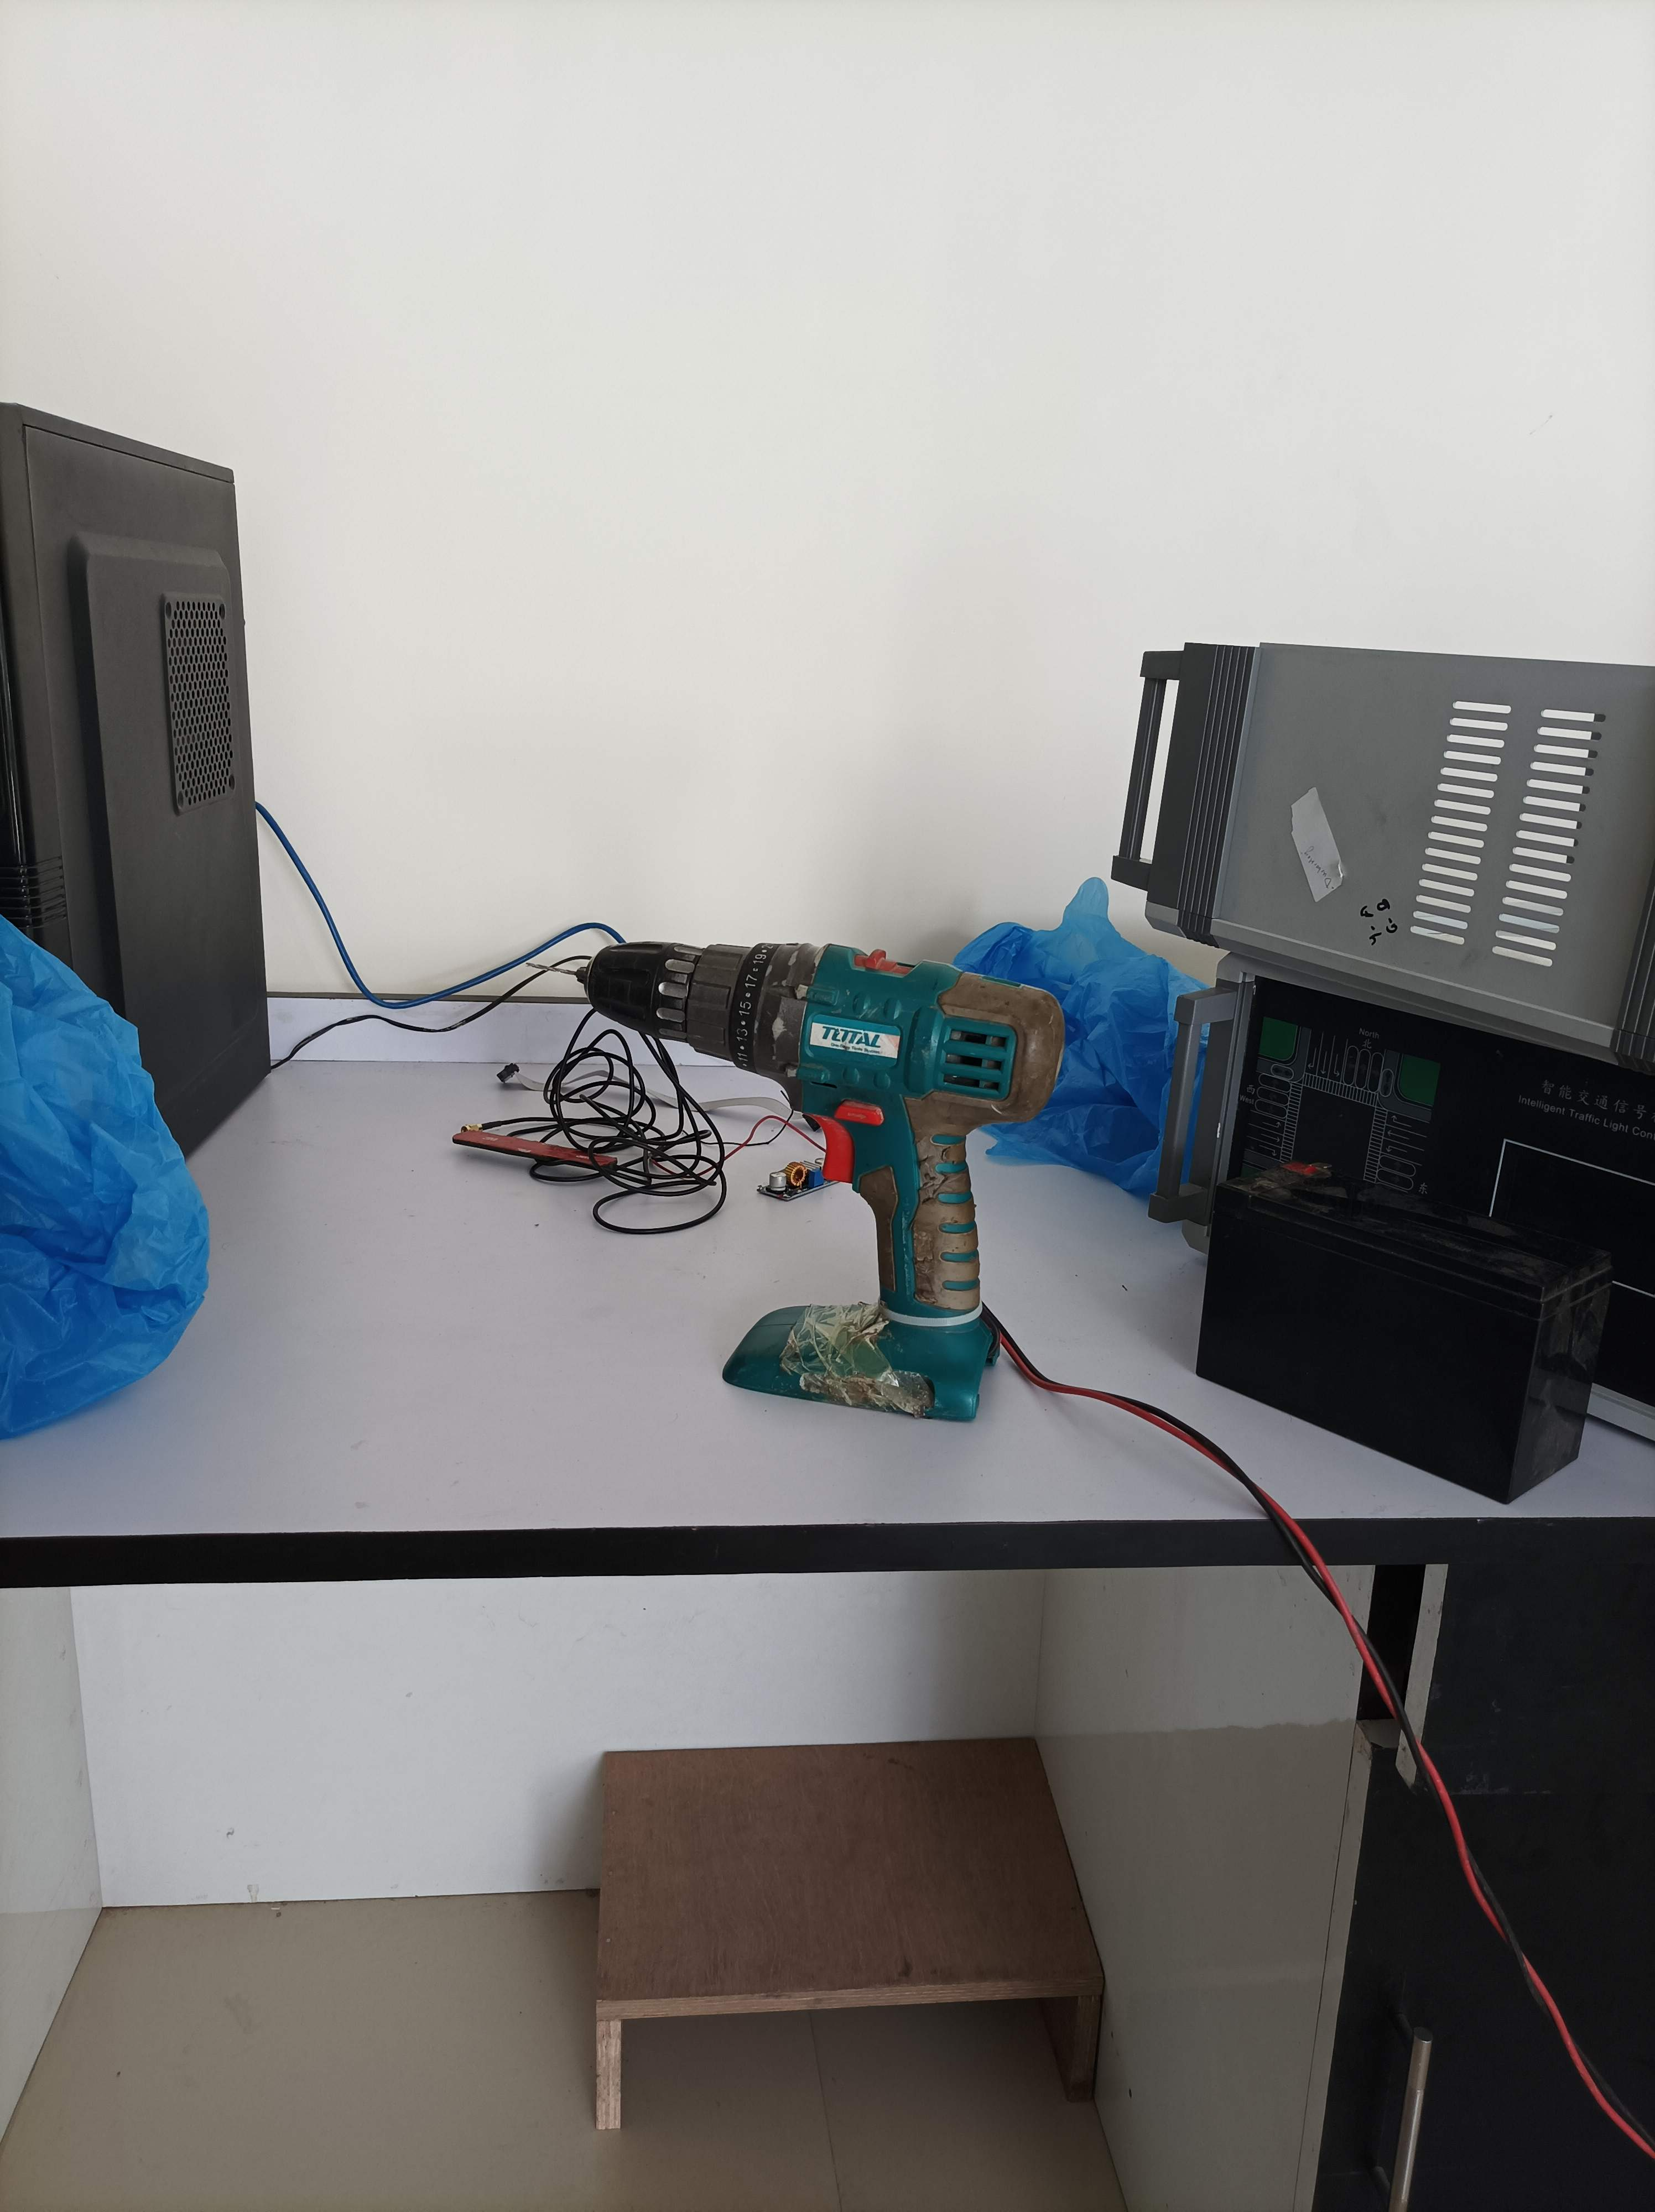driller: (522, 933, 1076, 1434)
